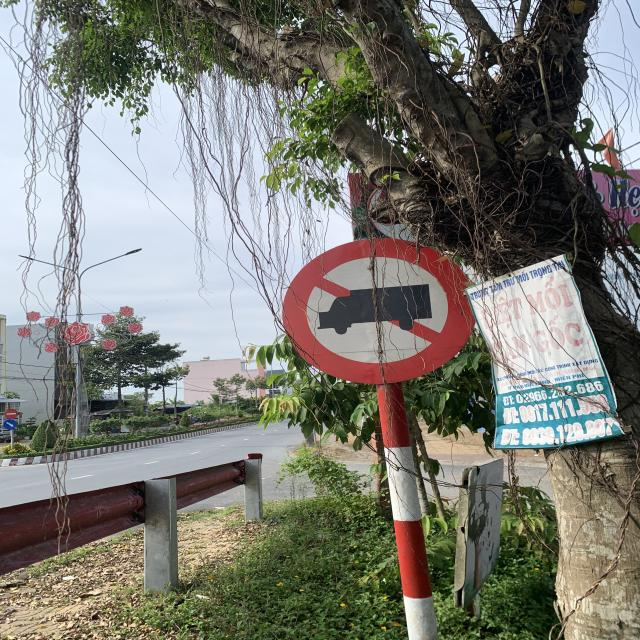Cam_Xe_Tai: (284, 237, 478, 386)
